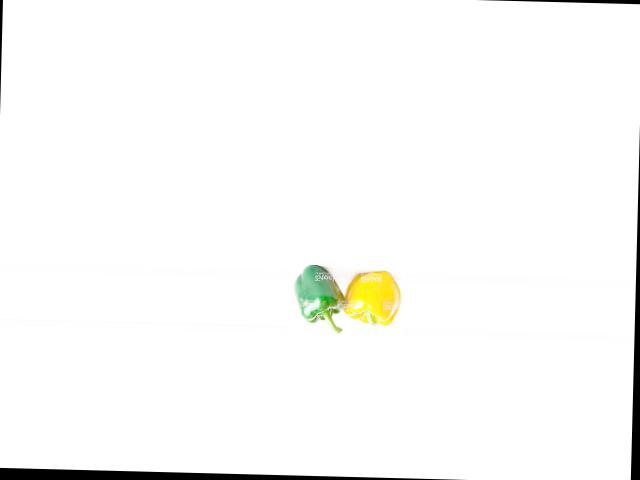bell_pepper: (288, 256, 345, 327)
